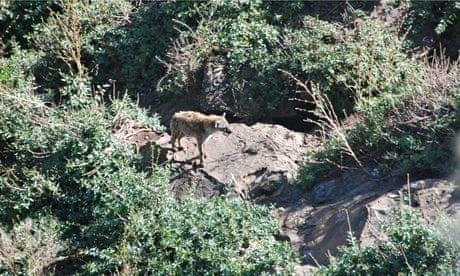hyna: (168, 109, 233, 169)
